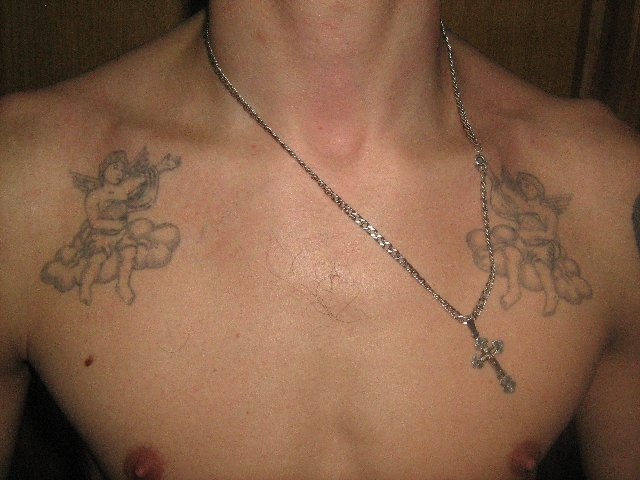tatu1_angel: (40, 144, 197, 309), (463, 162, 601, 322)
